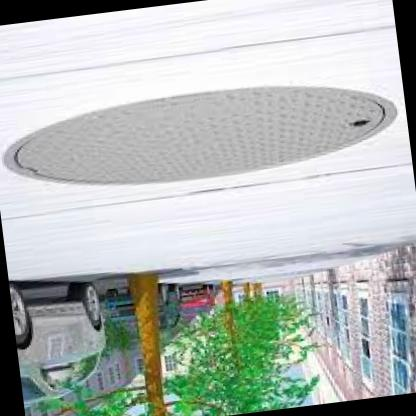manholes: (0, 50, 412, 230)
